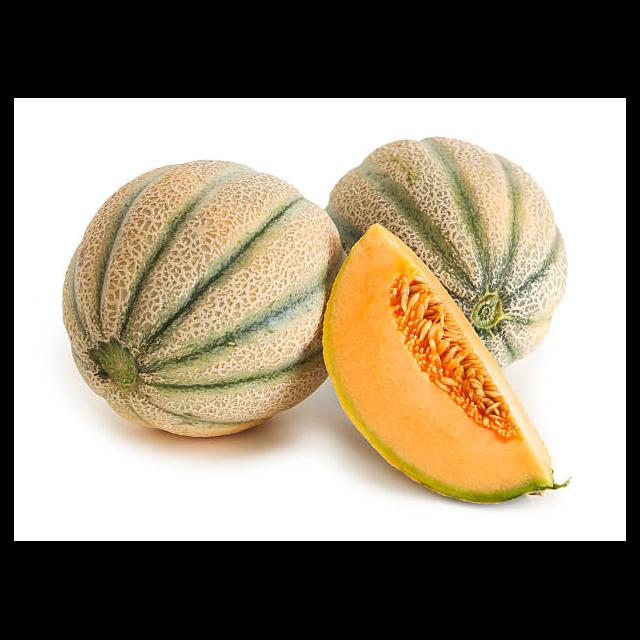Hami Melon: (60, 162, 344, 440), (322, 223, 555, 505), (329, 136, 565, 369)
